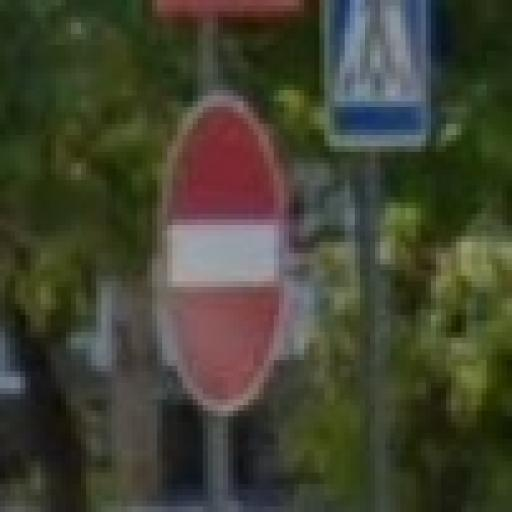traffic_sign: (148, 91, 295, 423)
